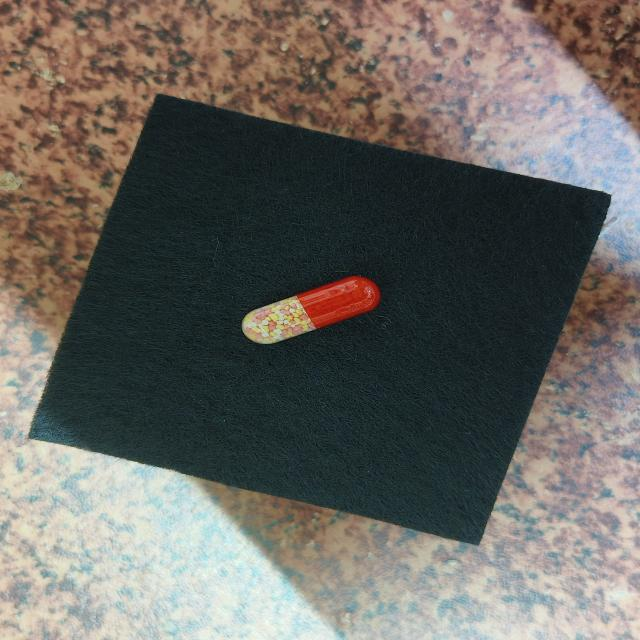Intact Capsule: (241, 276, 380, 344)
